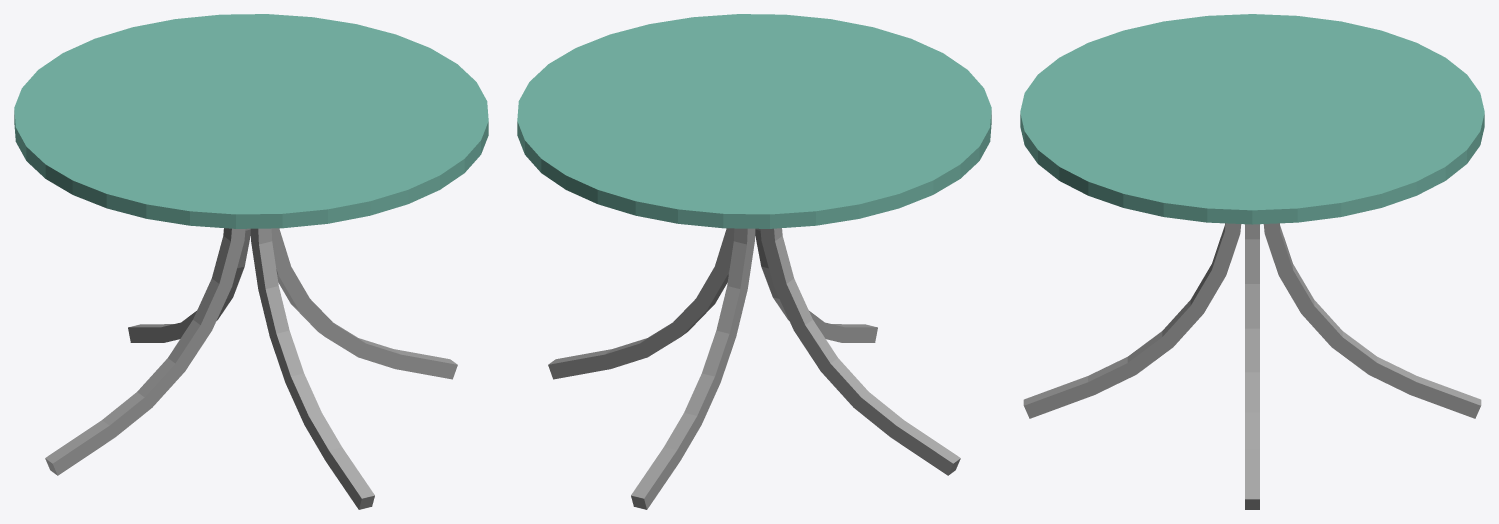
Rendered from CafeTable.fbx.
3 renders of one model, left to right at view 1: azimuth 30°, elevation 25°; view 2: azimuth 150°, elevation 25°; view 3: azimuth 270°, elevation 25°, orthographic. The views are drawn at different scales.
Parts seen in each view (by area): view 1: CafeTable; view 2: CafeTable; view 3: CafeTable.
Part boxes in pixels (x1,y1,x2,y2): CafeTable: (14,14,488,509); CafeTable: (517,14,991,509); CafeTable: (1020,14,1484,509).
Bounding box in the file's own units: 0.00745 × 0.00537 × 0.00745.
